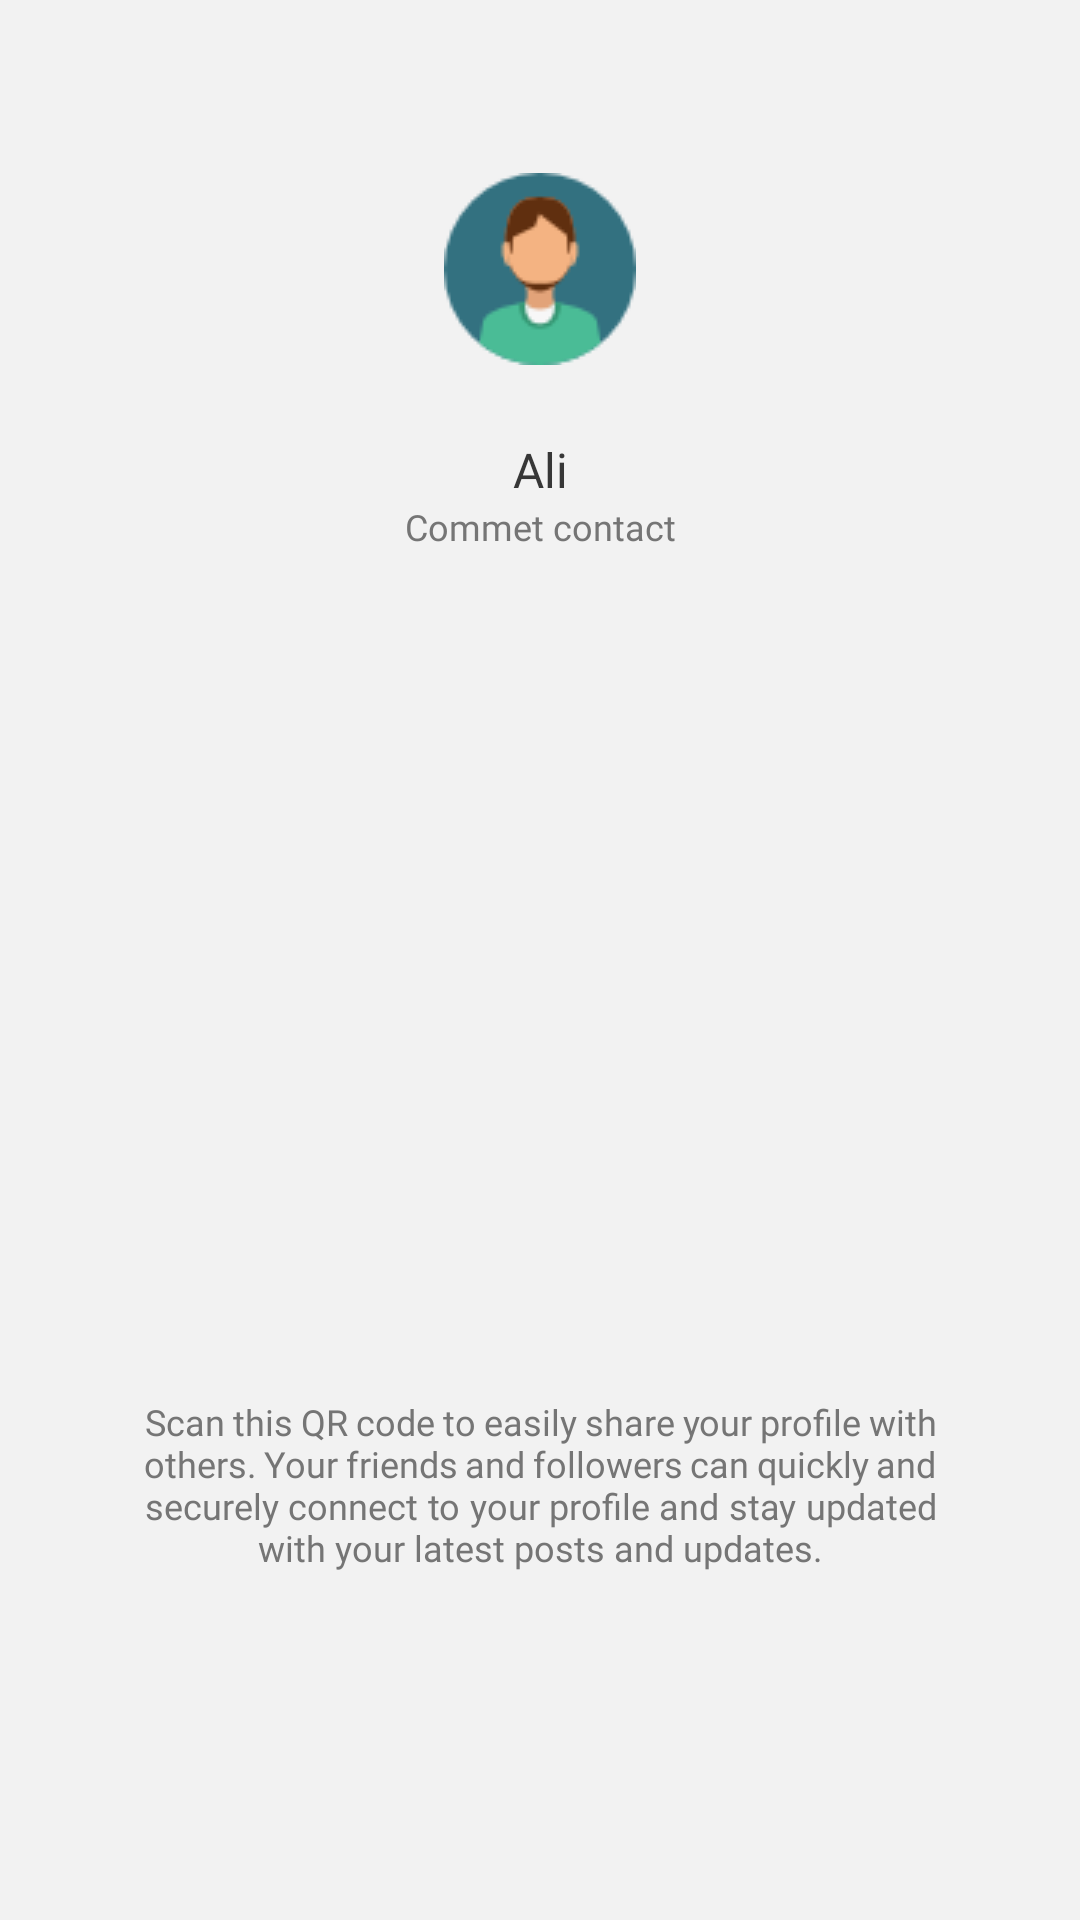

Named icons in this screenshot (1080*1920) and their centers, [x,y]:
user: [540,269]
